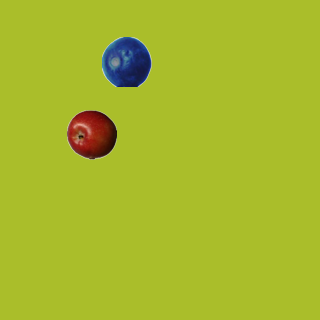Apple Braeburn: (66, 109, 116, 159)
Huckleberry: (101, 36, 151, 86)
